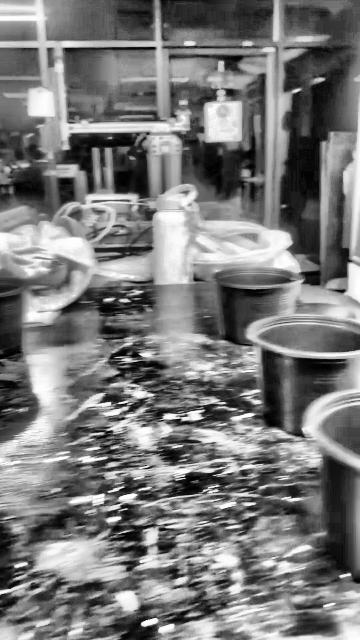pot: (247, 313, 359, 435), (303, 391, 359, 581), (214, 267, 303, 344), (0, 277, 25, 358)
